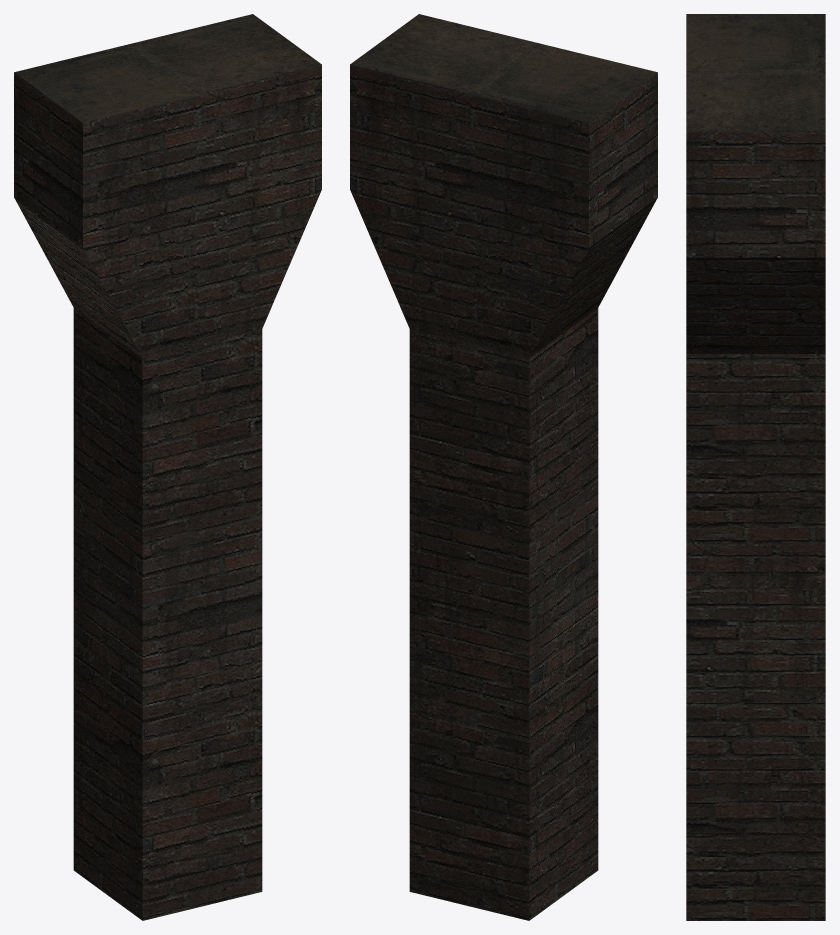
File: pillar_hs_7.glb
The picture shows the model from 3 angles, left to right: view 1: azimuth 30°, elevation 25°; view 2: azimuth 150°, elevation 25°; view 3: azimuth 270°, elevation 25°; orthographic projection.
Parts seen in each view (by area): view 1: pillar_hs_7; view 2: pillar_hs_7; view 3: pillar_hs_7.
Boxes of the visible parts, box(x1,y1,x2,y2) form: pillar_hs_7: box(14, 14, 321, 920); pillar_hs_7: box(350, 14, 657, 920); pillar_hs_7: box(686, 14, 825, 920).
Bounding box in the file's own units: 2 × 6.5 × 1.
Materials: 2 (2 with a texture image).
